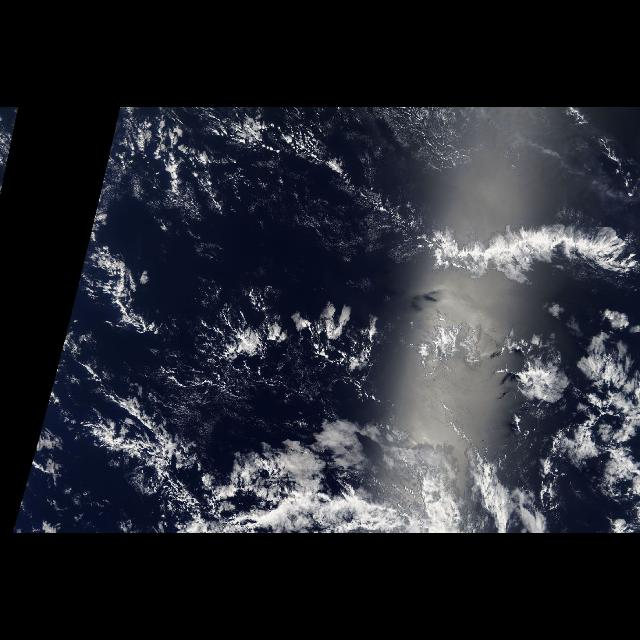Fish: (405, 212, 639, 296)
Flower: (482, 310, 628, 492)
